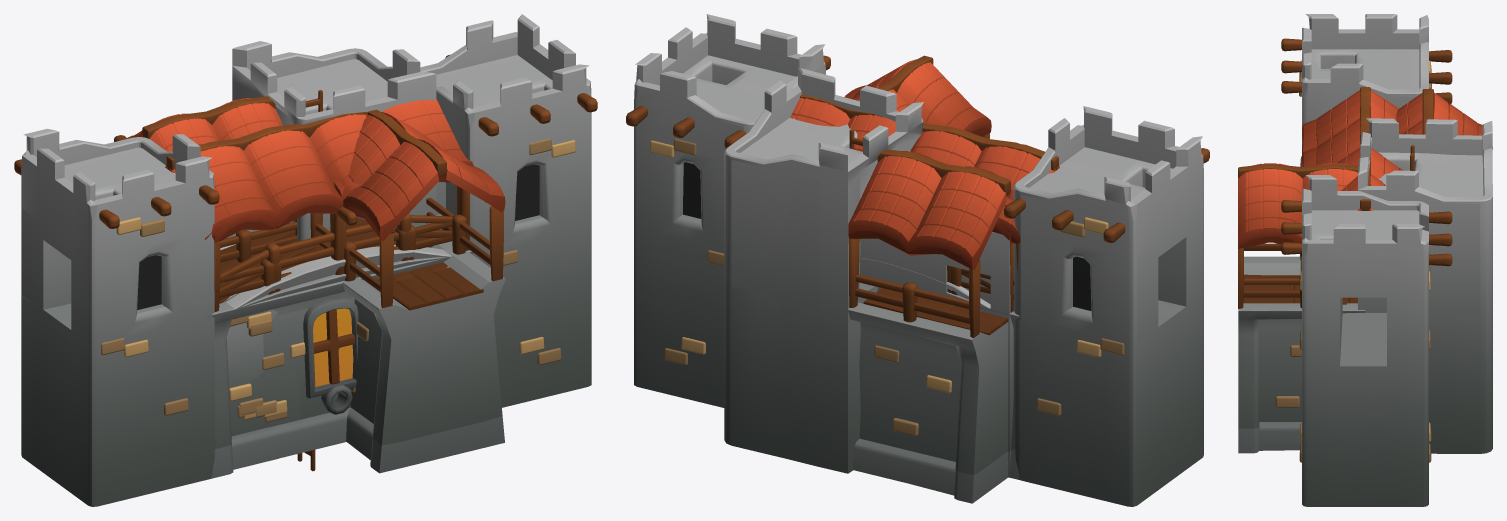
The model's file is castle_walls.fbx.
The picture shows the model from 3 angles, left to right: view 1: azimuth 30°, elevation 25°; view 2: azimuth 150°, elevation 25°; view 3: azimuth 270°, elevation 25°; orthographic projection. The views are drawn at different scales.
Parts seen in each view (by area): view 1: gate, corner_wall, door_wall, basic_wall, window_wall, Cannon; view 2: gate, corner_wall, window_wall, basic_wall, door_wall; view 3: gate, corner_wall, door_wall, basic_wall, window_wall.
Boxes of the visible parts, x1,y1,x2,y2 form: gate: [14, 14, 597, 506]; corner_wall: [127, 41, 505, 473]; door_wall: [210, 103, 467, 477]; basic_wall: [165, 99, 473, 478]; window_wall: [214, 105, 468, 477]; Cannon: [321, 384, 352, 414]; gate: [626, 14, 1209, 506]; corner_wall: [724, 55, 1014, 503]; window_wall: [804, 100, 1016, 477]; basic_wall: [790, 94, 1059, 479]; door_wall: [816, 99, 1015, 314]; gate: [1281, 14, 1452, 506]; corner_wall: [1238, 89, 1492, 453]; door_wall: [1302, 98, 1403, 190]; basic_wall: [1302, 87, 1398, 210]; window_wall: [1303, 97, 1400, 190].
Size of the model in its own units: 8 by 5.56 by 4.02.
